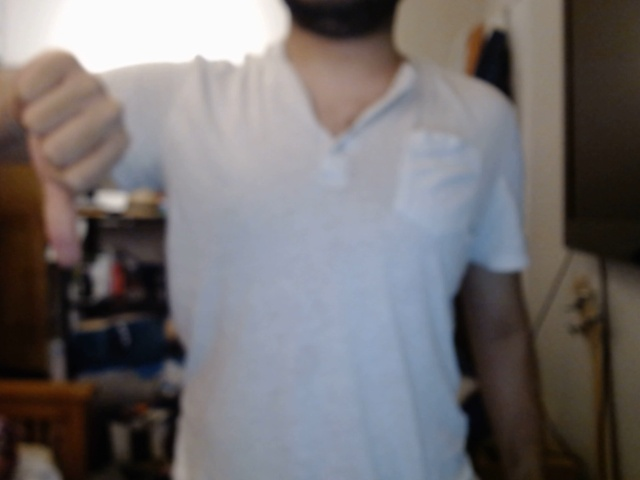Thumbs down: (9, 37, 139, 273)
